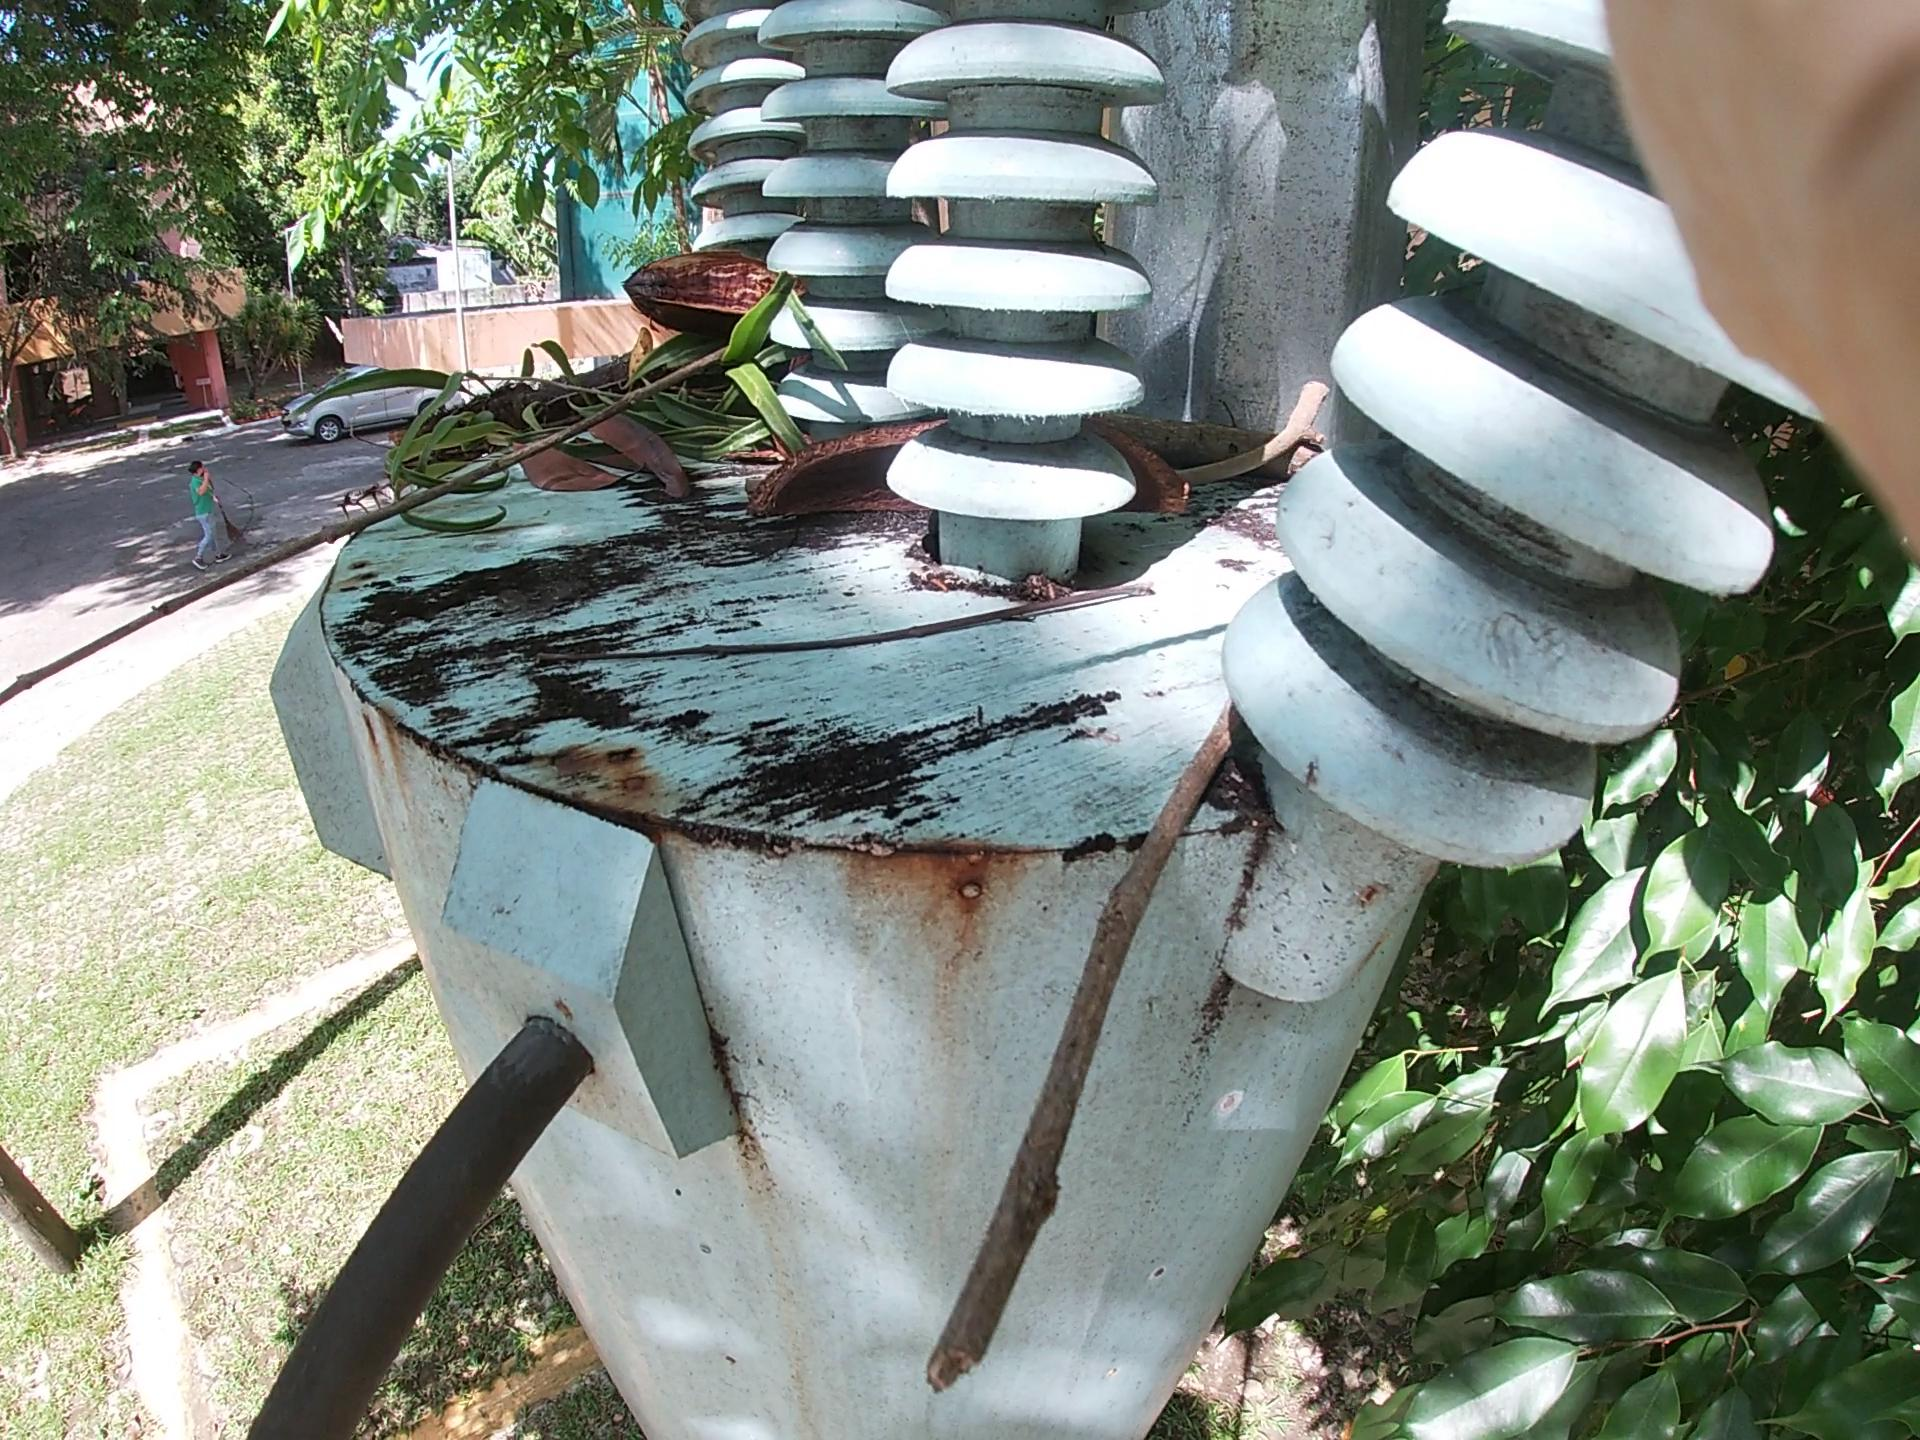branch with leaves: (296, 242, 812, 584)
leaf: (519, 351, 683, 601)
mahogany fruit: (723, 436, 1172, 602), (574, 213, 857, 396)
tree branch: (968, 717, 1285, 1357), (29, 360, 701, 656), (1129, 342, 1339, 514), (540, 611, 1076, 644)
